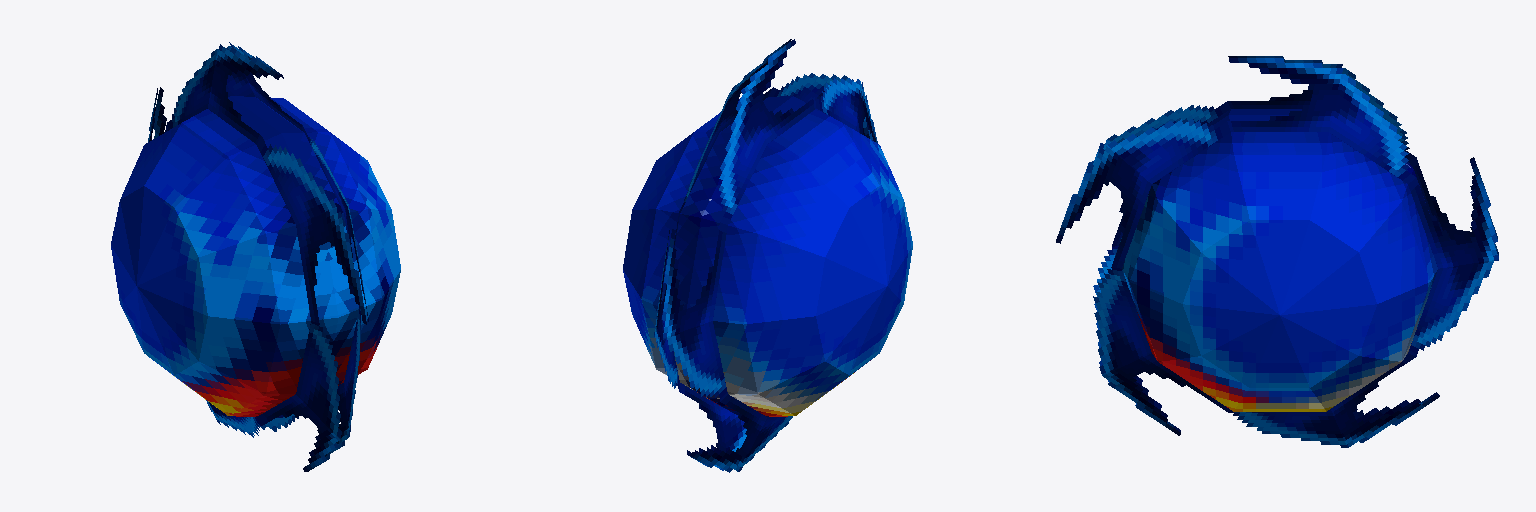
The picture shows the model from 3 angles: view 1: azimuth 30°, elevation 25°; view 2: azimuth 150°, elevation 25°; view 3: azimuth 270°, elevation 25°; orthographic projection.
Parts seen in each view (by area): view 1: Spinball_1, Spinball; view 2: Spinball_1, Spinball; view 3: Spinball_1, Spinball.
Boxes of the visible parts, x1=… form: Spinball_1: x1=111, y1=96, x2=400, y2=417; Spinball: x1=148, y1=42, x2=368, y2=471; Spinball_1: x1=623, y1=96, x2=912, y2=416; Spinball: x1=654, y1=39, x2=877, y2=472; Spinball_1: x1=1115, y1=109, x2=1437, y2=411; Spinball: x1=1056, y1=56, x2=1498, y2=447.
Size of the model in its own units: 24.91 by 40.34 by 42.18.
2 materials, 2 textured.